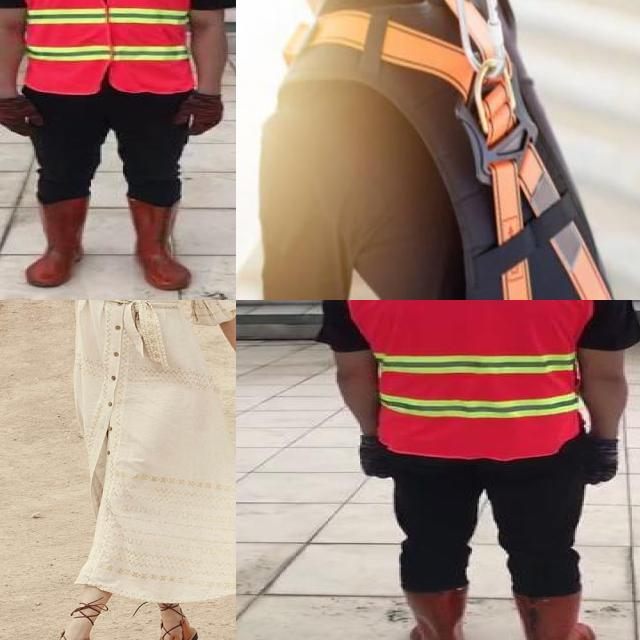Harness: (308, 0, 613, 300)
Sandals: (142, 601, 198, 640), (28, 610, 92, 640)
boots: (125, 195, 194, 292), (24, 194, 90, 286), (511, 591, 594, 640), (399, 589, 468, 640)
hand_glove: (178, 92, 224, 136), (0, 96, 48, 138), (580, 436, 620, 484), (358, 436, 390, 478)
person: (313, 300, 640, 640), (0, 0, 236, 300)
vest: (346, 300, 584, 459), (14, 0, 197, 94)
